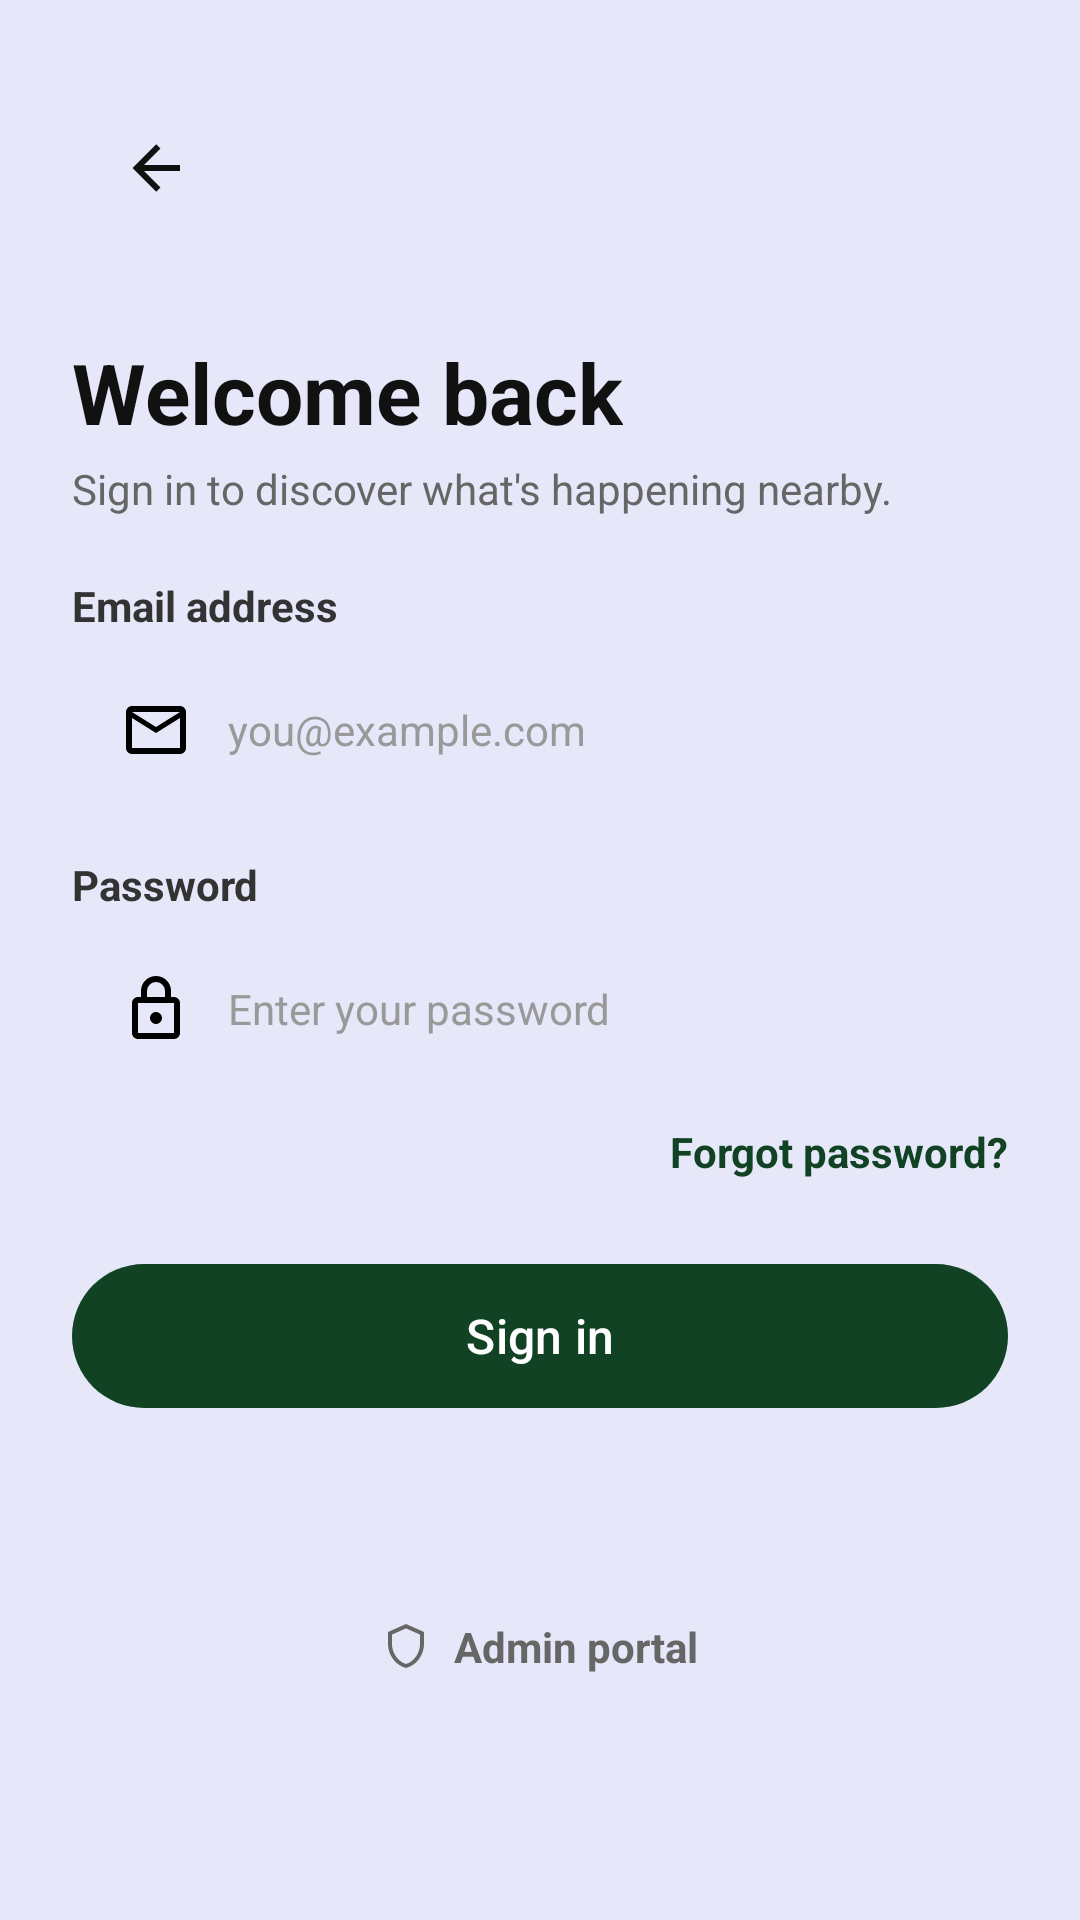

Where to tap for icons on this 1080px×1920px app screen, as (x,y):
Shield: (406,1646)
